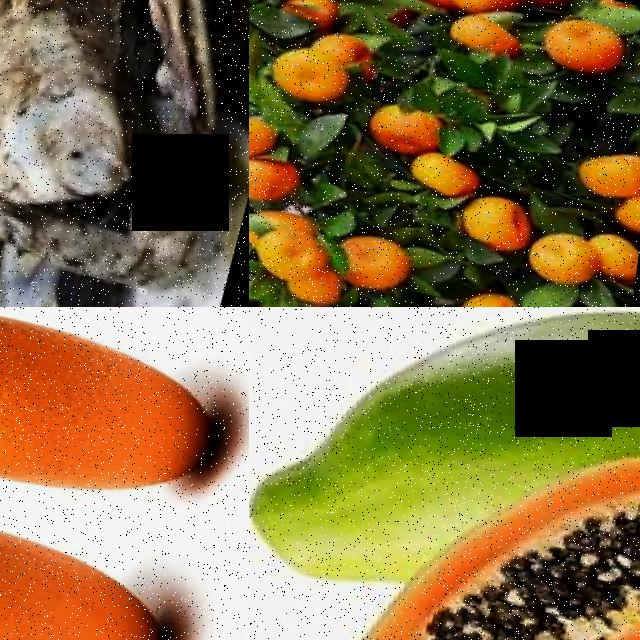orange: (0, 307, 249, 516), (0, 471, 211, 640), (537, 0, 635, 70), (256, 213, 348, 282), (270, 35, 360, 99), (345, 219, 425, 287), (465, 177, 547, 242), (531, 213, 608, 277), (370, 90, 449, 145), (575, 126, 640, 191), (249, 142, 309, 202), (460, 276, 534, 307), (249, 98, 286, 159)
pawpaw: (308, 376, 640, 640)
